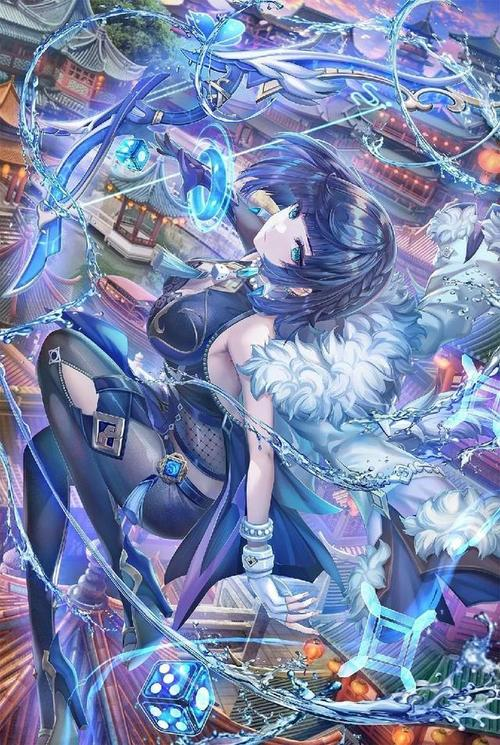夜兰: (22, 143, 399, 743)
